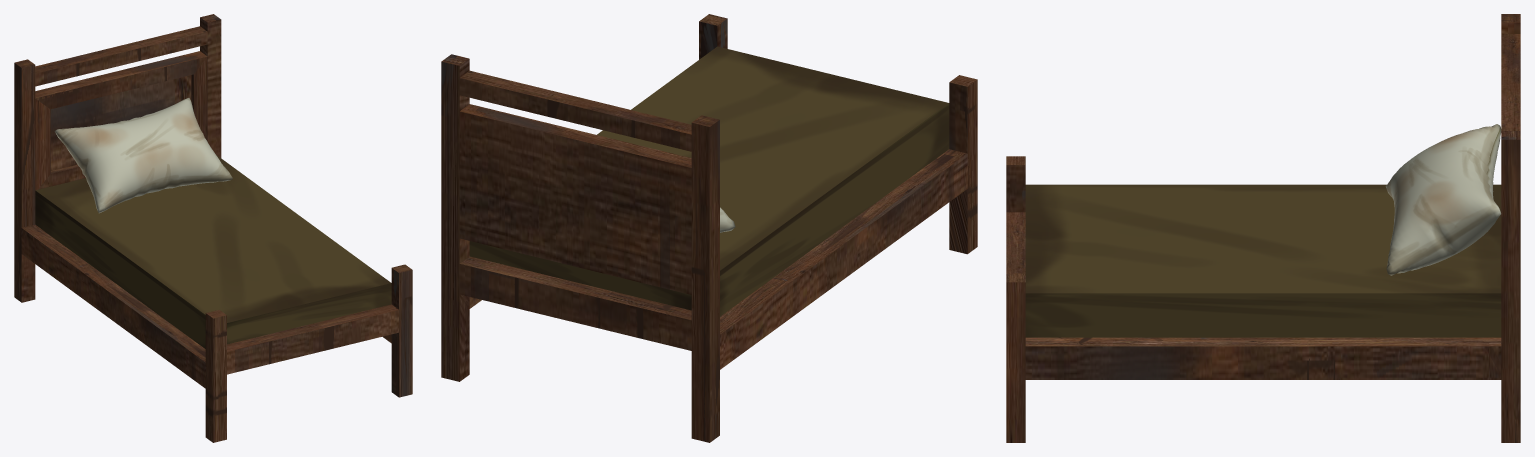
File: bed.glb
3 renders of one model, left to right at view 1: azimuth 30°, elevation 25°; view 2: azimuth 150°, elevation 25°; view 3: azimuth 270°, elevation 25°, orthographic. The views are drawn at different scales.
Visible parts, largest first — view 1: Cube, Cube.001, Plane; view 2: Cube, Cube.001; view 3: Cube.001, Cube, Plane.
Boxes of the visible parts, left/top/right/bottom form: Cube: left=14, top=14, right=412, bottom=442; Cube.001: left=35, top=155, right=391, bottom=348; Plane: left=54, top=98, right=232, bottom=213; Cube: left=441, top=14, right=977, bottom=442; Cube.001: left=469, top=46, right=949, bottom=316; Cube.001: left=1025, top=184, right=1501, bottom=337; Cube: left=1006, top=14, right=1520, bottom=442; Plane: left=1385, top=124, right=1501, bottom=275.
Size of the model in its own units: 9.47 by 10.64 by 16.36.
3 materials, 3 textured.
